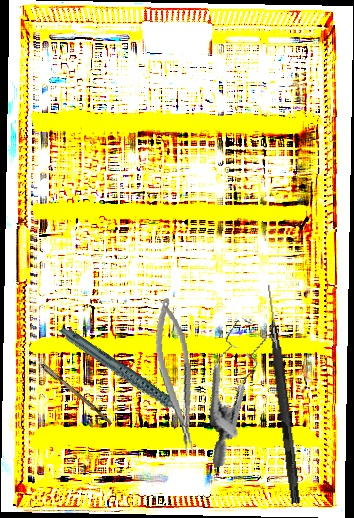Handpiece: (57, 303, 195, 448)
Hook Surgical: (260, 284, 304, 504)
Needle Holder: (149, 295, 202, 457)
Speculum: (175, 311, 306, 468)
Surgical Spoon: (15, 343, 115, 425)
